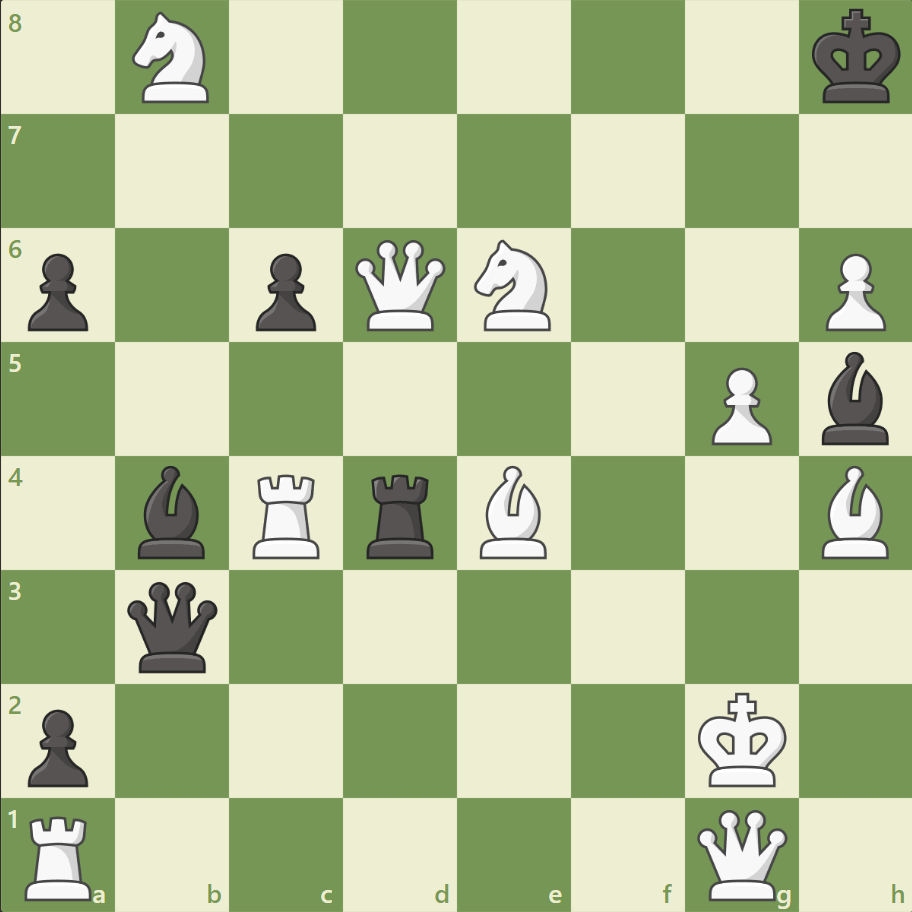B: (471, 460, 555, 563), (812, 460, 896, 563)
K: (692, 685, 792, 793)
N: (124, 7, 222, 110), (465, 234, 562, 337)
P: (701, 359, 776, 450), (815, 246, 889, 337)
Q: (351, 236, 450, 335), (691, 804, 790, 903)
R: (19, 806, 102, 904), (246, 466, 329, 563)
b: (131, 460, 215, 563), (812, 347, 896, 449)
k: (806, 4, 906, 112)
p: (20, 246, 95, 337), (247, 246, 322, 337), (20, 700, 95, 791)
q: (124, 576, 223, 676)
r: (360, 466, 442, 563)
